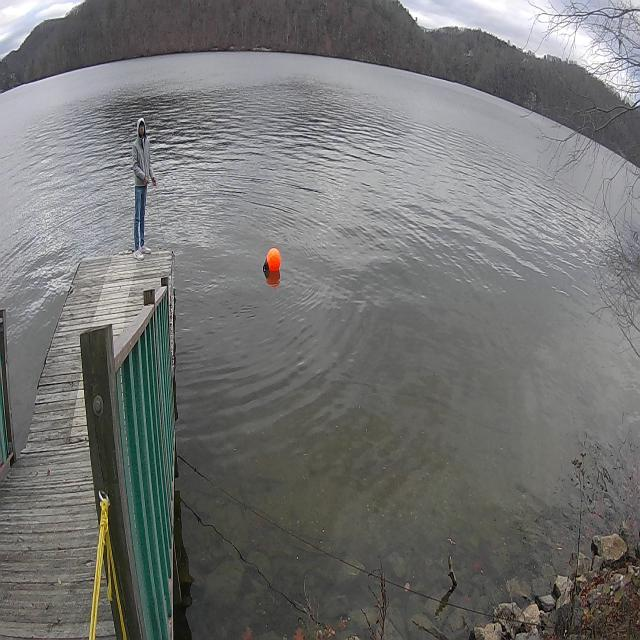Buoy: (259, 240, 287, 283)
